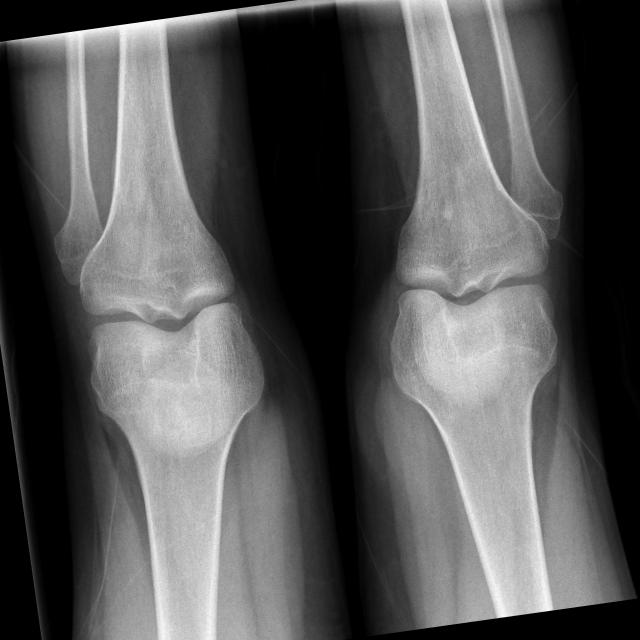Knee: (70, 230, 268, 412), (370, 210, 564, 372)
